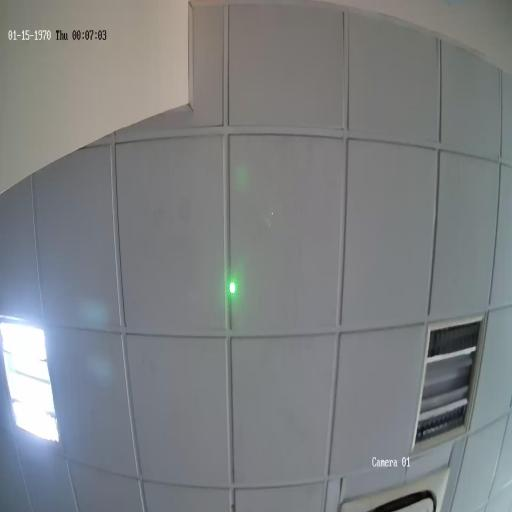laser: (228, 279, 237, 296)
